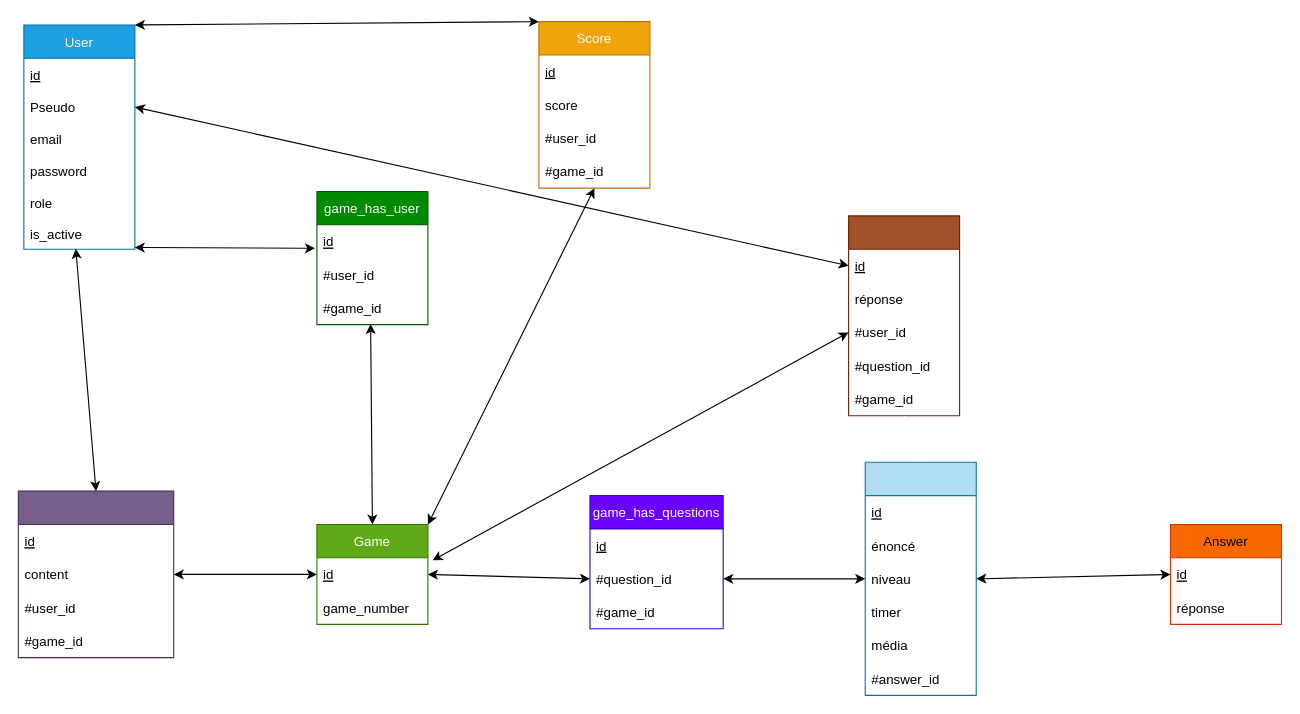
The diagram is 1300 pixels wide and 714 high, and some of its shapes have lost their labels. Each missing label, with the box of its shape:
message: (17, 490, 174, 658)
Question: (864, 461, 976, 695)
User_Answer: (847, 215, 960, 416)
